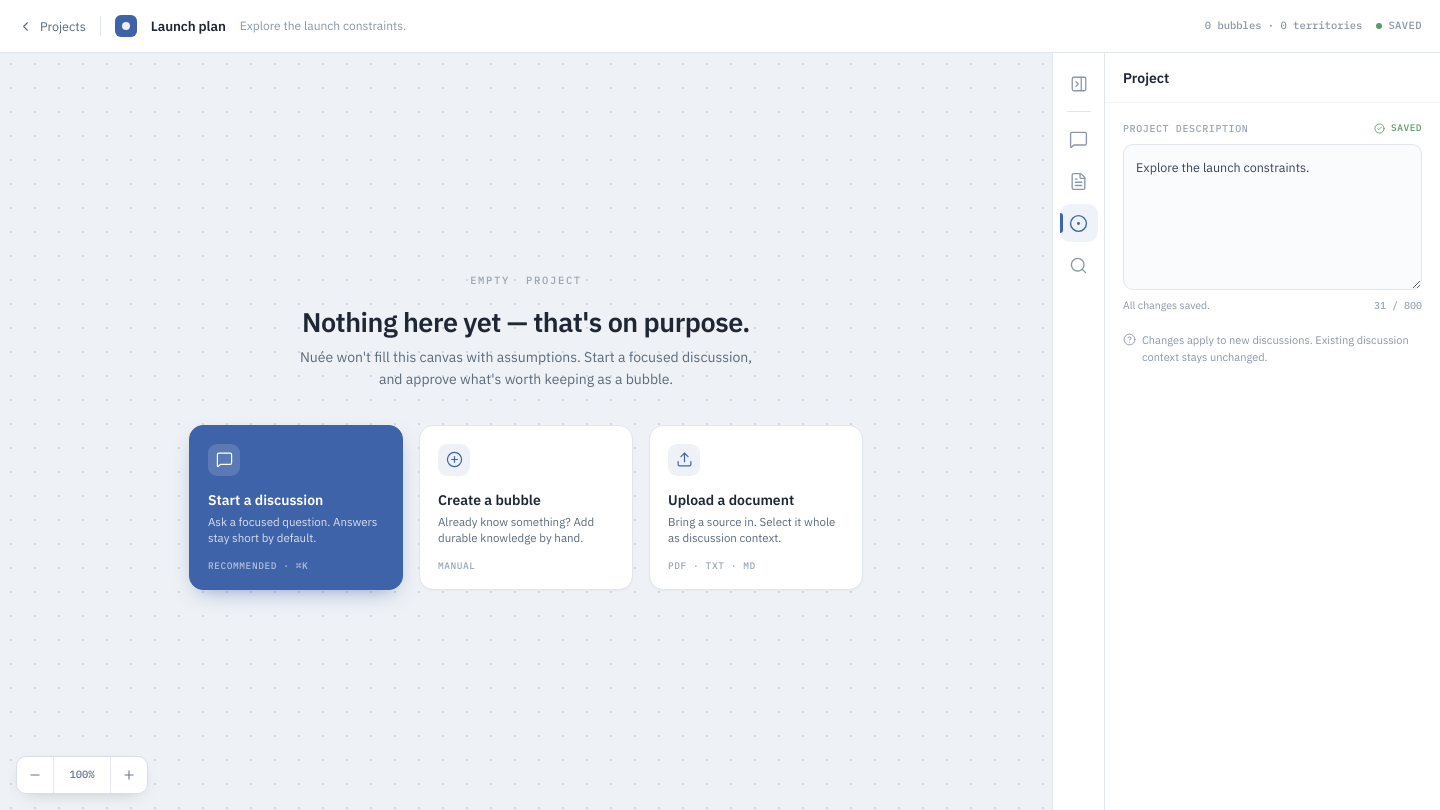
discussions panel lifecycle › adds a newly persisted discussion to the panel as Active without creating an empty row
Click the button "Start a discussion". click: (296, 507)
box: [189,425,403,590]
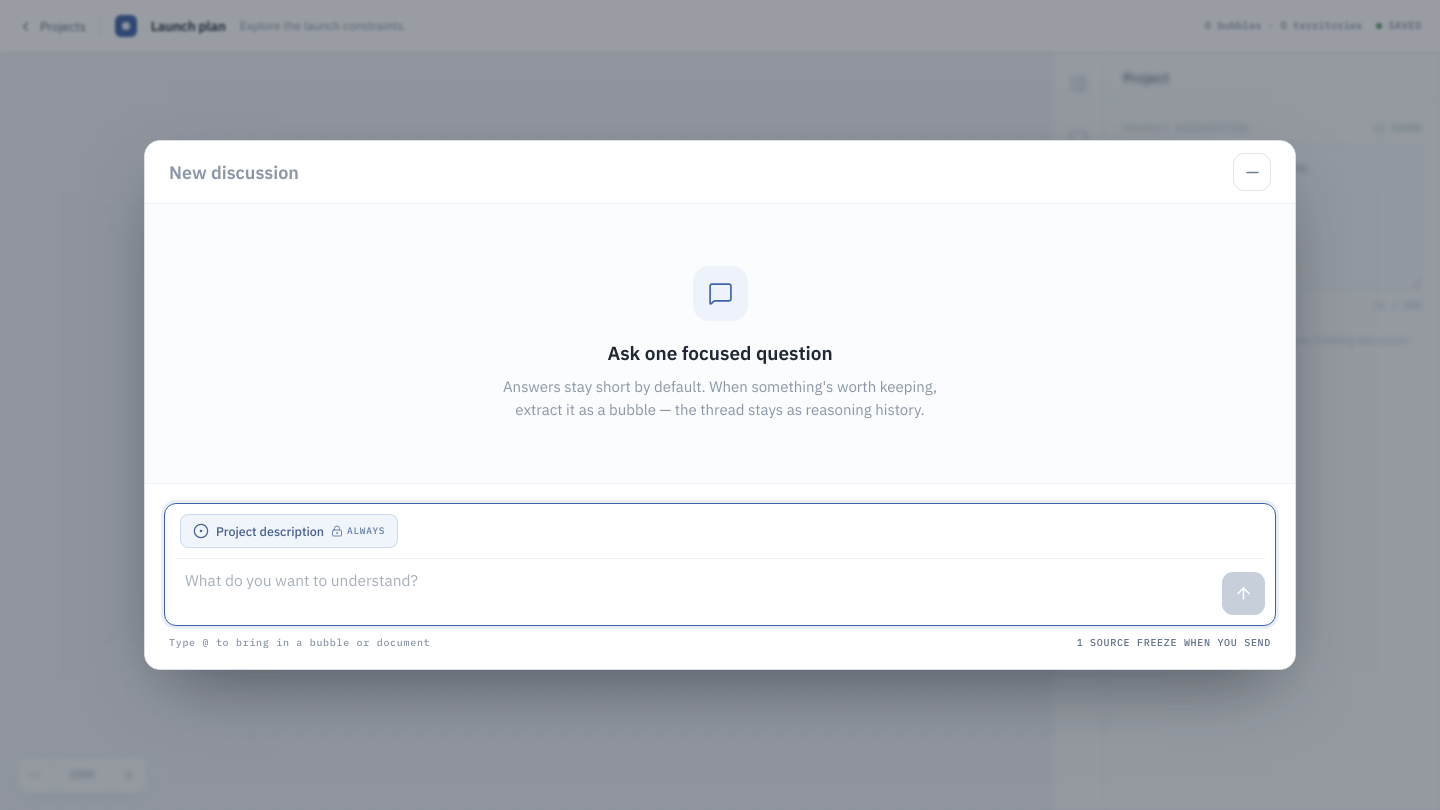
Type "What blocks the launch?" into the dropdown named "Discussion prompt". click: (694, 584)
box: [175,559,1212,609]
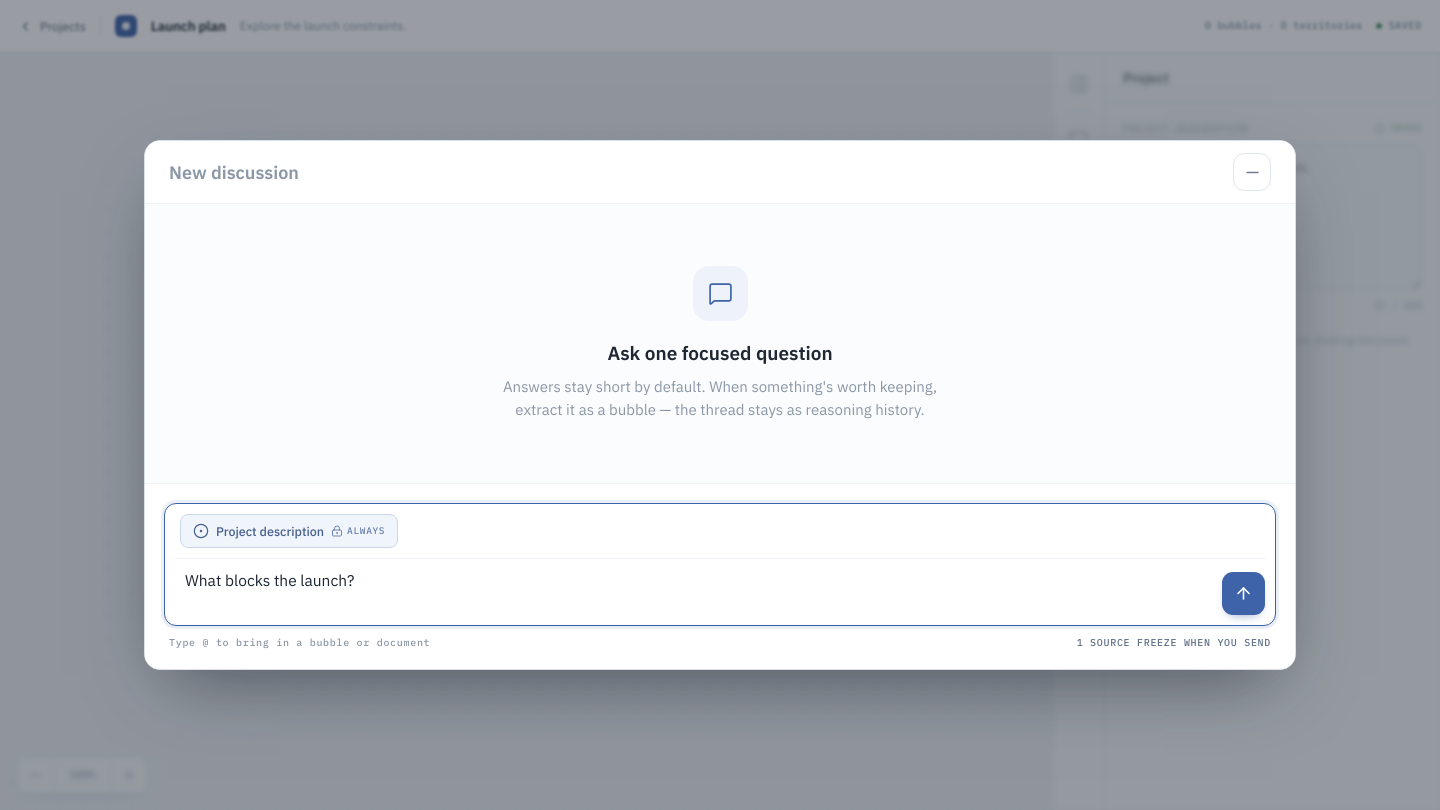
Click the button named "Continue discussion". click: (1244, 594)
box: [1222,572,1265,615]
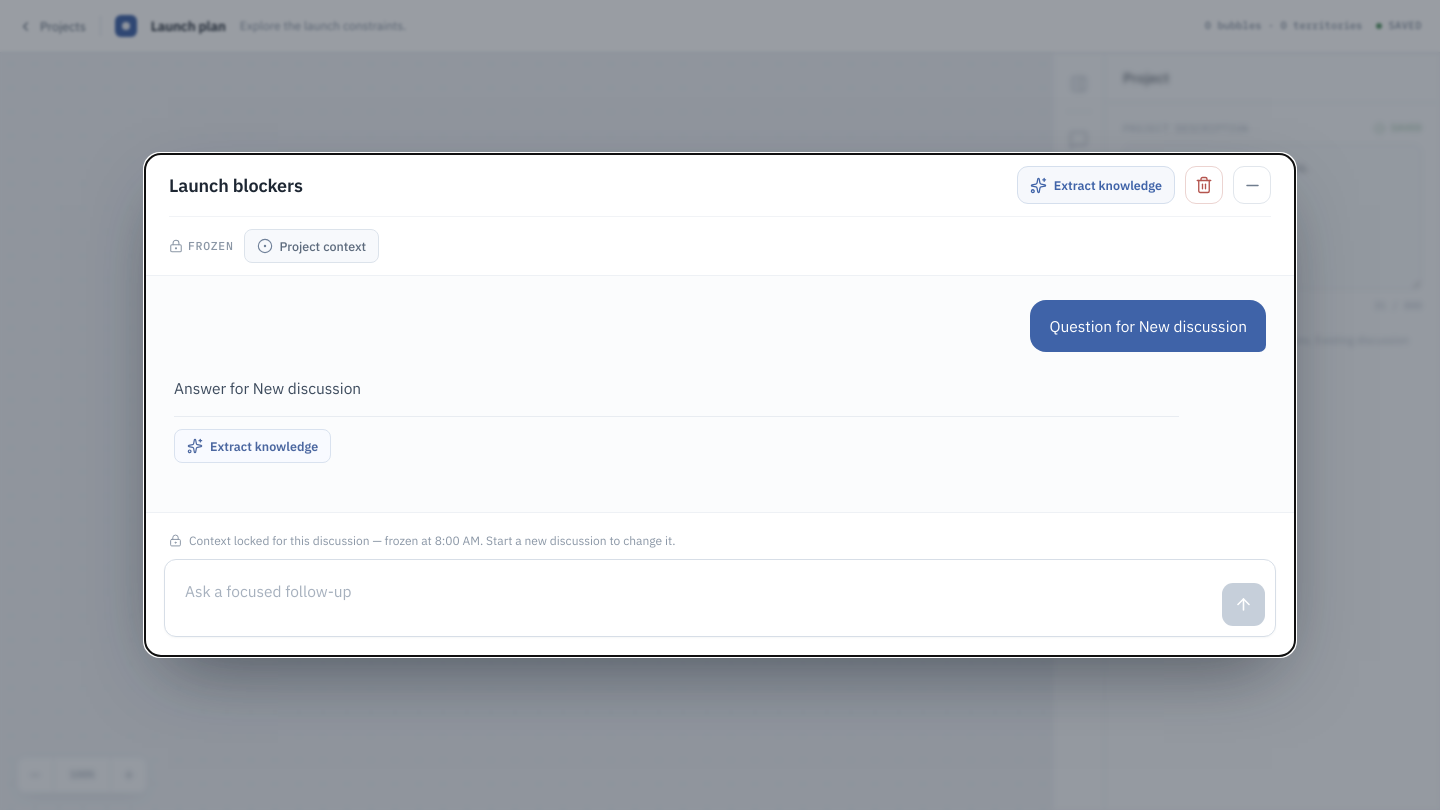
Result: the text "Answer for New discussion" is shown at [174,378,361,398]
Result: the dialog "Launch blockers" is shown at [144,153,1296,657]
Click the button named "Minimize discussion". click: (1252, 185)
box: [1233,166,1271,204]
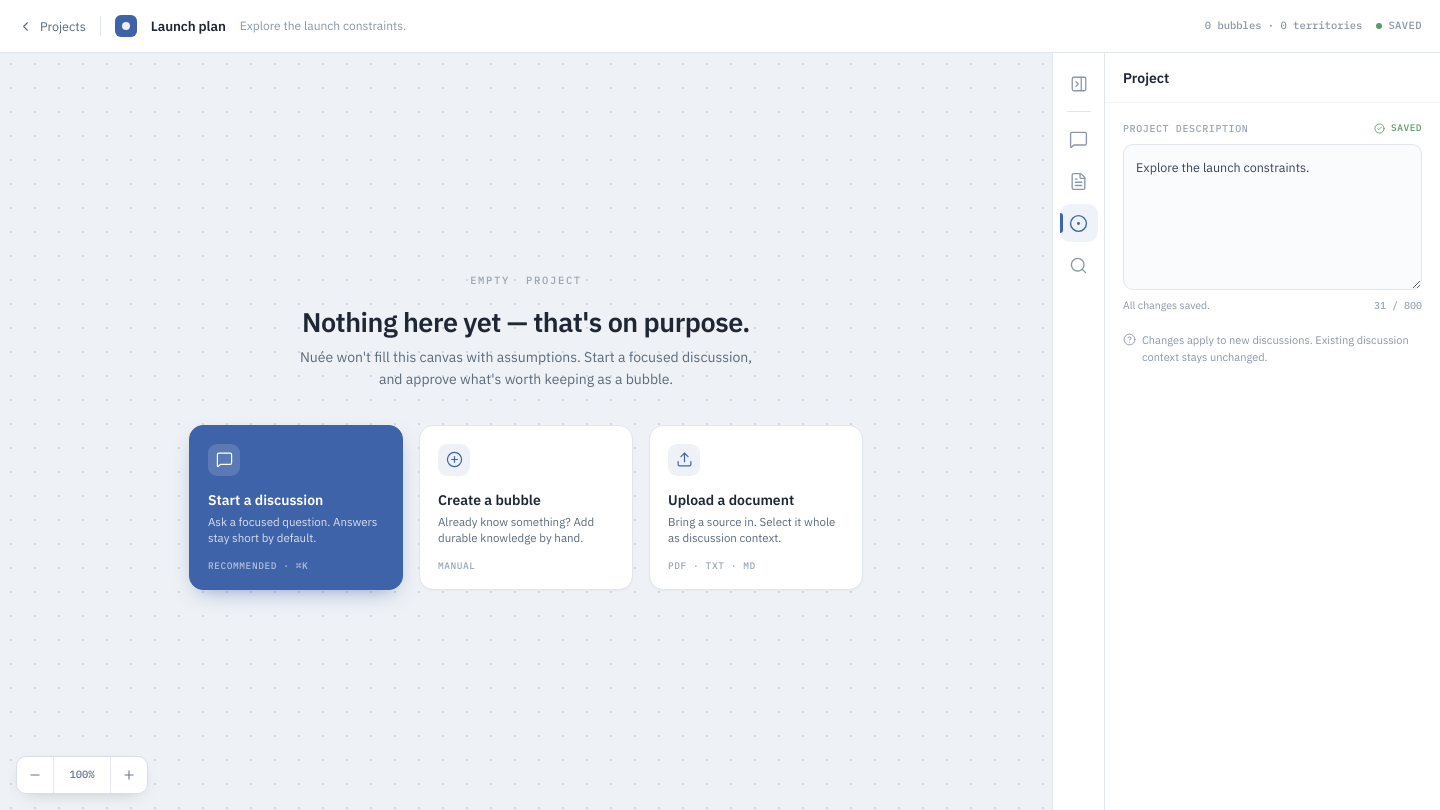
Click the tab named "Discussions". click: (1078, 139)
box: [1060,120,1098,158]
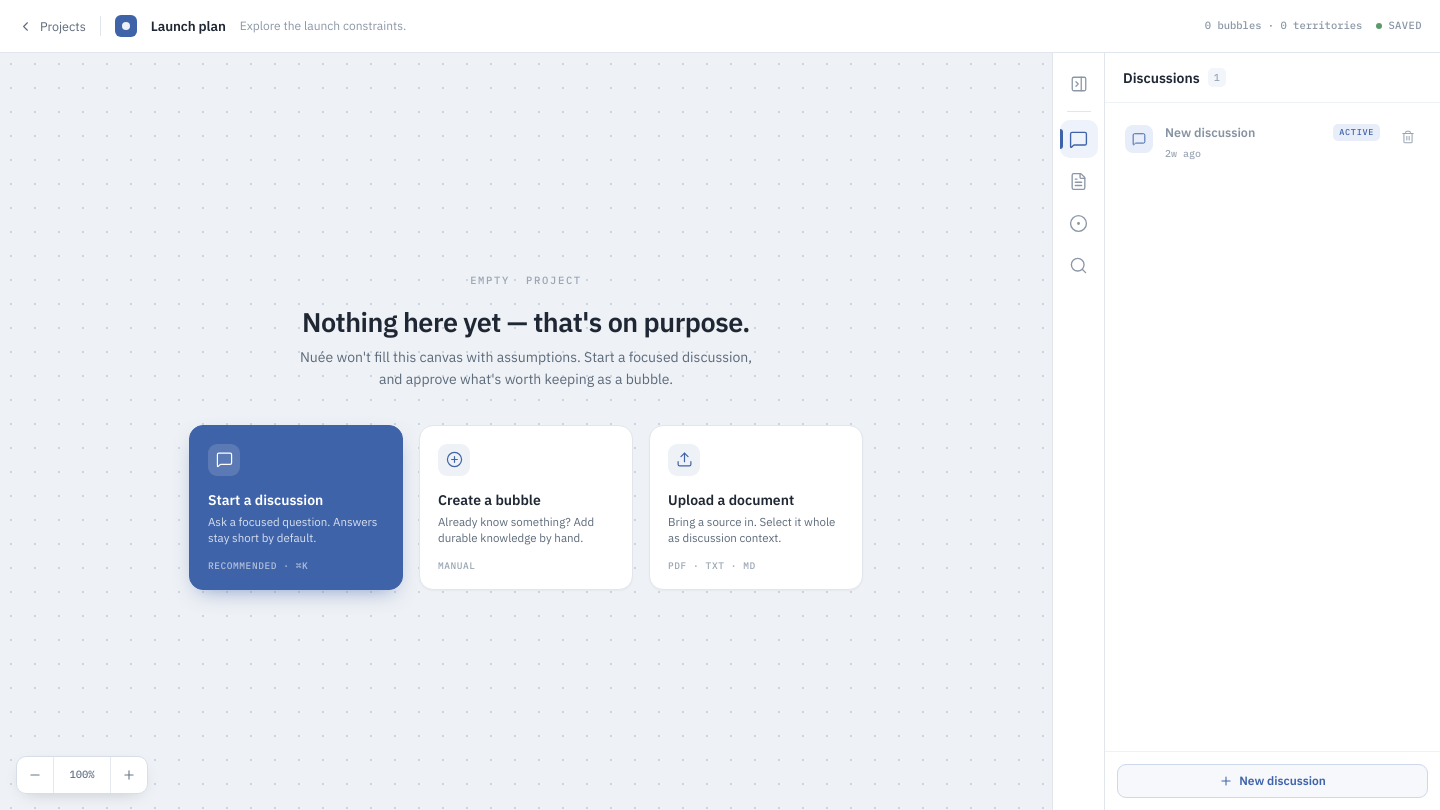
Expected: the text "ACTIVE" is shown once, [1333,124,1380,141]
Result: the button named "Open discussion: Launch blockers" is shown at [1113,111,1392,173]
